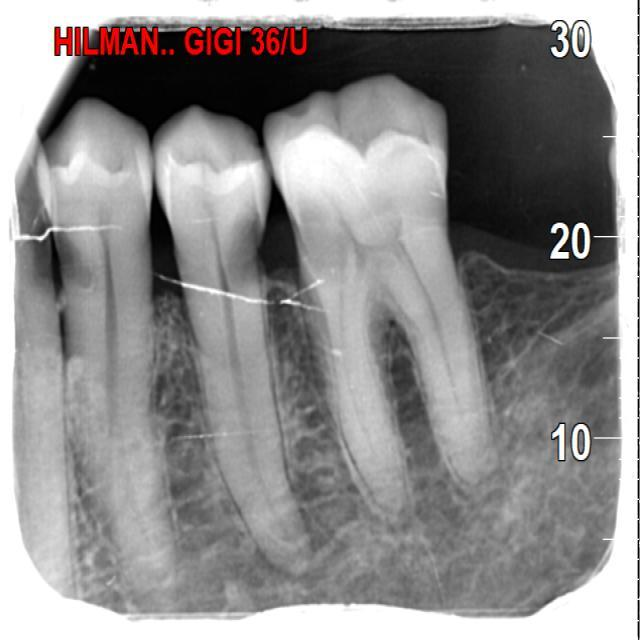individual-tooth-8tto: (271, 87, 492, 512), (36, 91, 182, 584), (153, 107, 307, 568)
